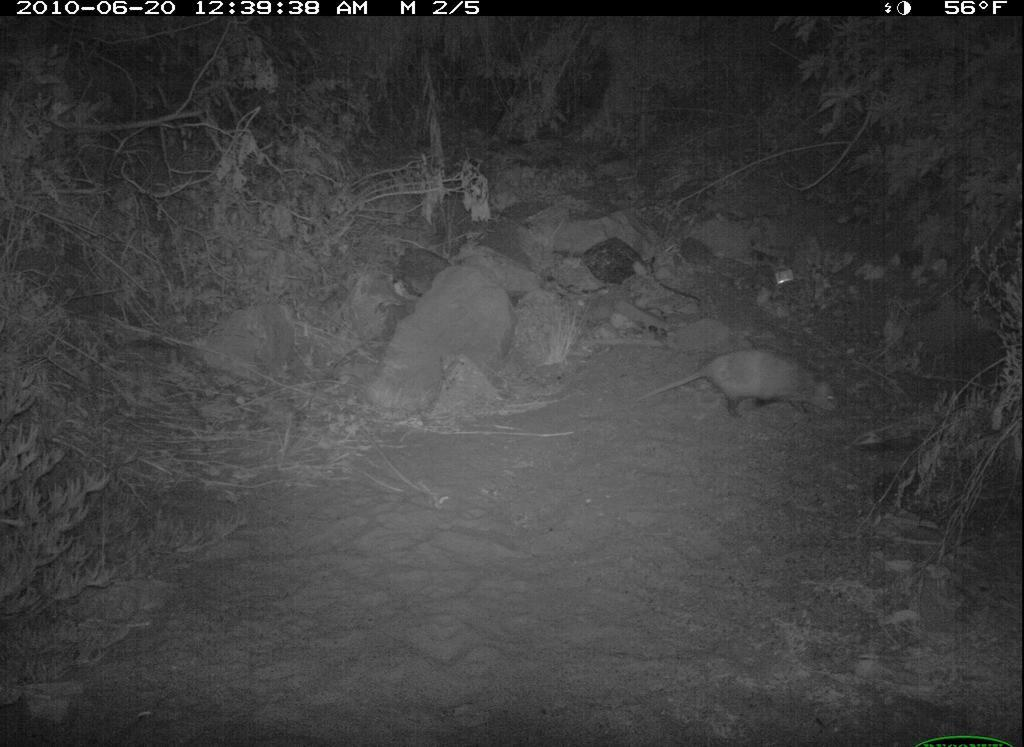opossum: (624, 345, 847, 437)
